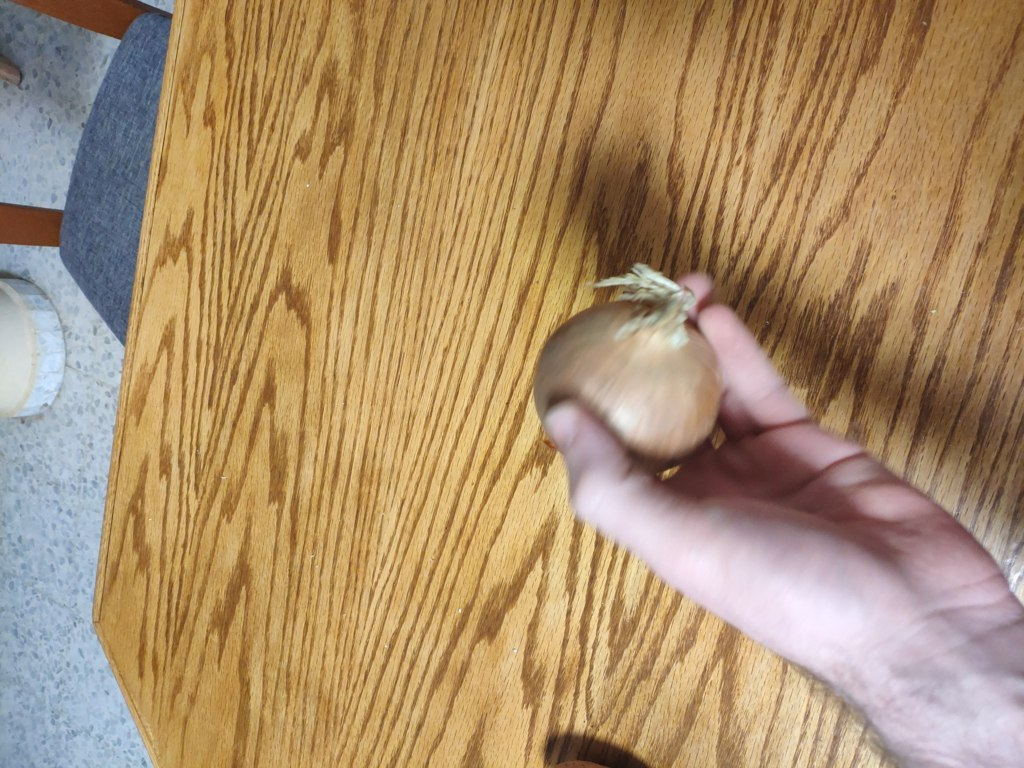Onion: (532, 297, 710, 474)
